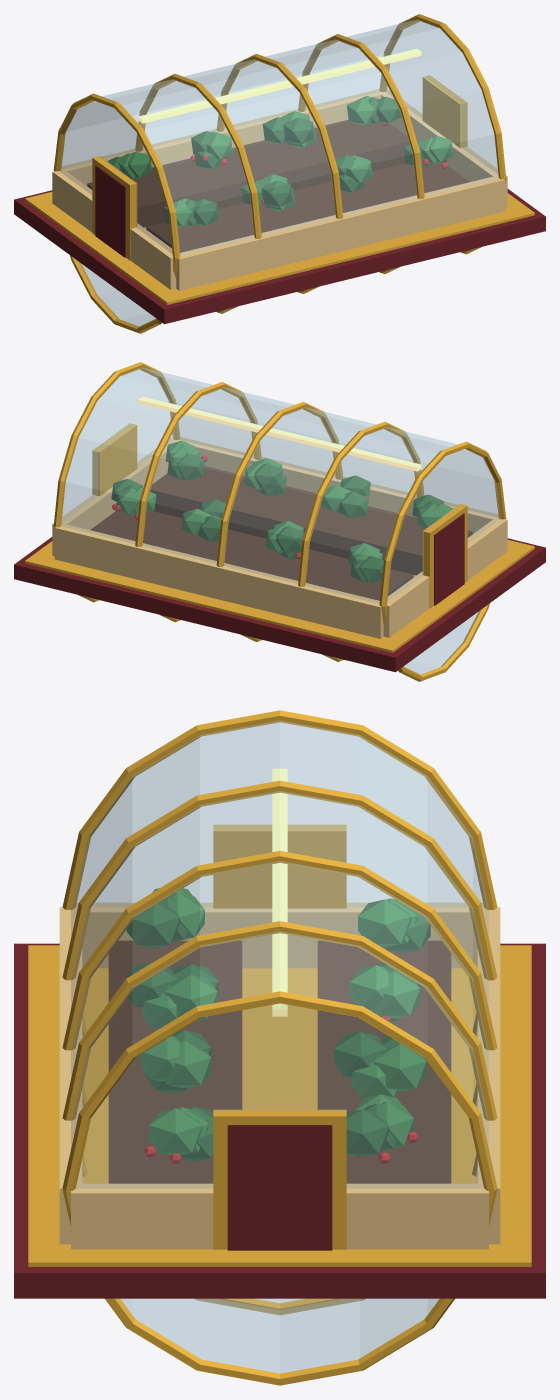
File: estufa-n2.glb
3 renders of one model, top to bottom at view 1: azimuth 30°, elevation 25°; view 2: azimuth 150°, elevation 25°; view 3: azimuth 270°, elevation 25°, orthographic. The views are drawn at different scales.
Parts seen in each view (by area): view 1: estufa-n2; view 2: estufa-n2; view 3: estufa-n2.
Part boxes in pixels (left/top/right/bottom): estufa-n2: left=14, top=14, right=545, bottom=333; estufa-n2: left=14, top=362, right=545, bottom=681; estufa-n2: left=14, top=710, right=545, bottom=1385.
Bounding box in the file's own units: 12.3 × 6.87 × 8.4.
